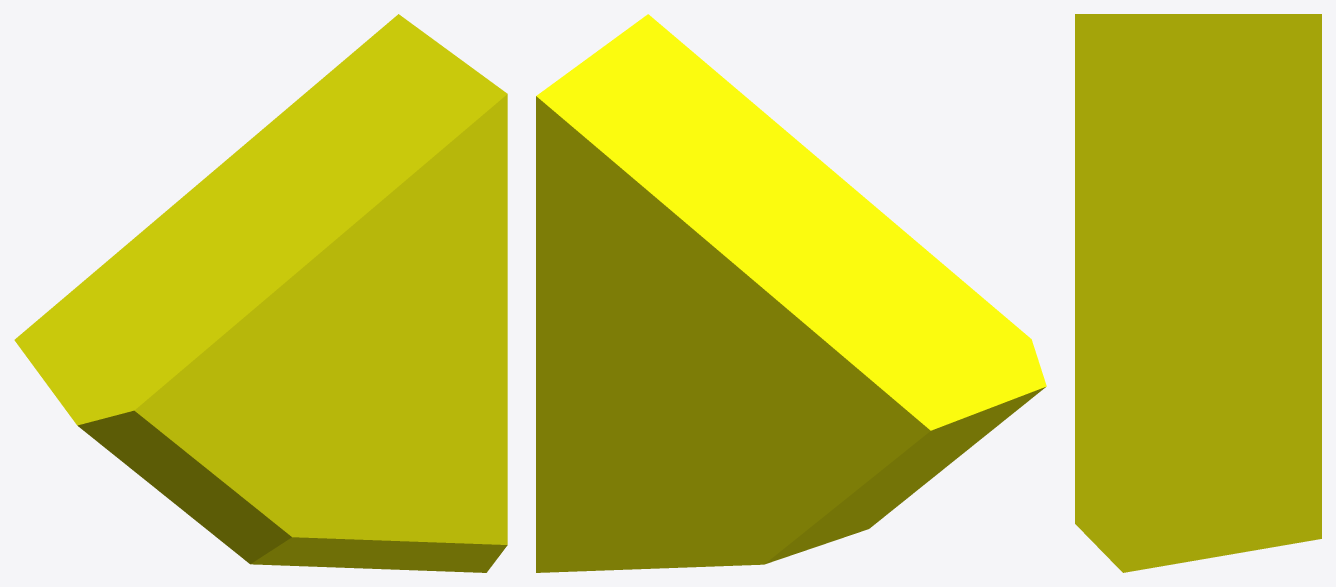
File: kaykit-target-pieces-d.glb
3 views of the same model, side by side, from view 1: azimuth 30°, elevation 25°; view 2: azimuth 150°, elevation 25°; view 3: azimuth 270°, elevation 25° (orthographic). The views are drawn at different scales.
Visible parts, largest first — view 1: target_pieces_D; view 2: target_pieces_D; view 3: target_pieces_D.
Part boxes in pixels (bbox=[...]): target_pieces_D: bbox=[14, 14, 507, 572]; target_pieces_D: bbox=[536, 14, 1046, 572]; target_pieces_D: bbox=[1075, 14, 1321, 572].
Size of the model in its own units: 0.433 by 0.5 by 0.2.
